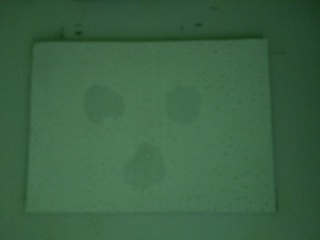Water_detected: (126, 153, 166, 192), (78, 94, 112, 117), (169, 94, 194, 117)
